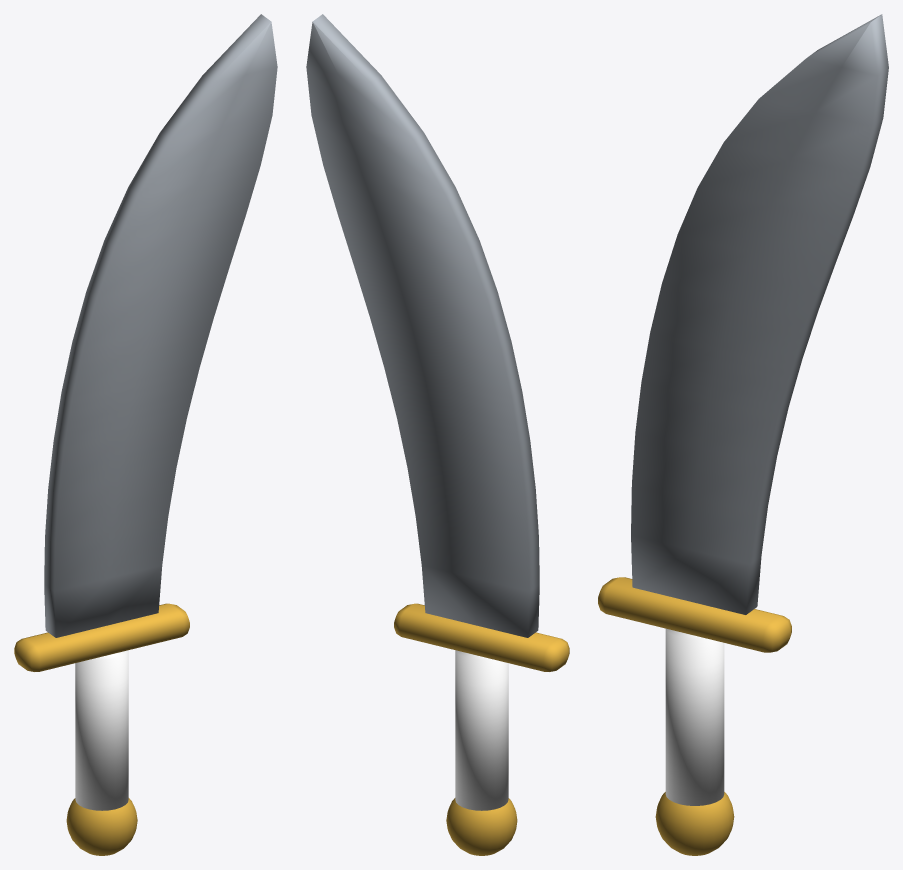
Rendered from cimitarra.glb.
3 renders of one model, left to right at view 1: azimuth 30°, elevation 25°; view 2: azimuth 150°, elevation 25°; view 3: azimuth 330°, elevation 25°, orthographic. The views are drawn at different scales.
Visible parts, largest first — view 1: cimitarra_fijo; view 2: cimitarra_fijo; view 3: cimitarra_fijo.
Part boxes in pixels (<box>): cimitarra_fijo: <box>14,14,277,855</box>; cimitarra_fijo: <box>306,14,569,855</box>; cimitarra_fijo: <box>598,14,888,855</box>.
Bounding box in the file's own units: 0.4919 × 1.48 × 0.12.
2 materials, 2 textured.
